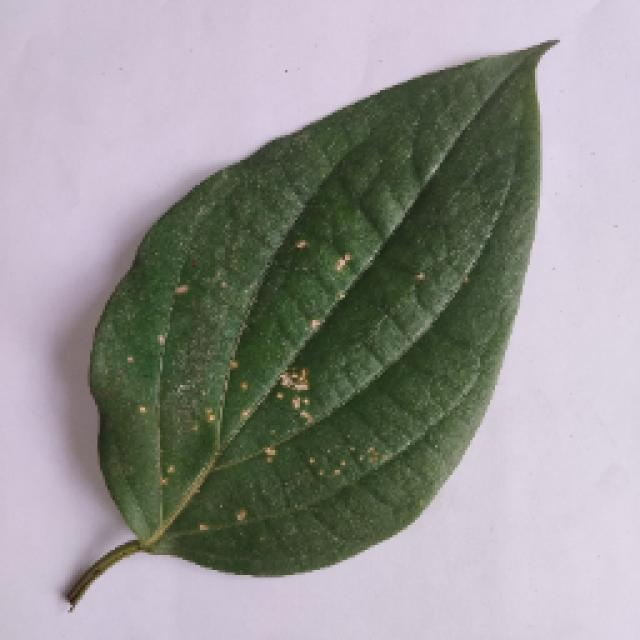pollu-disease: (70, 40, 552, 608)
